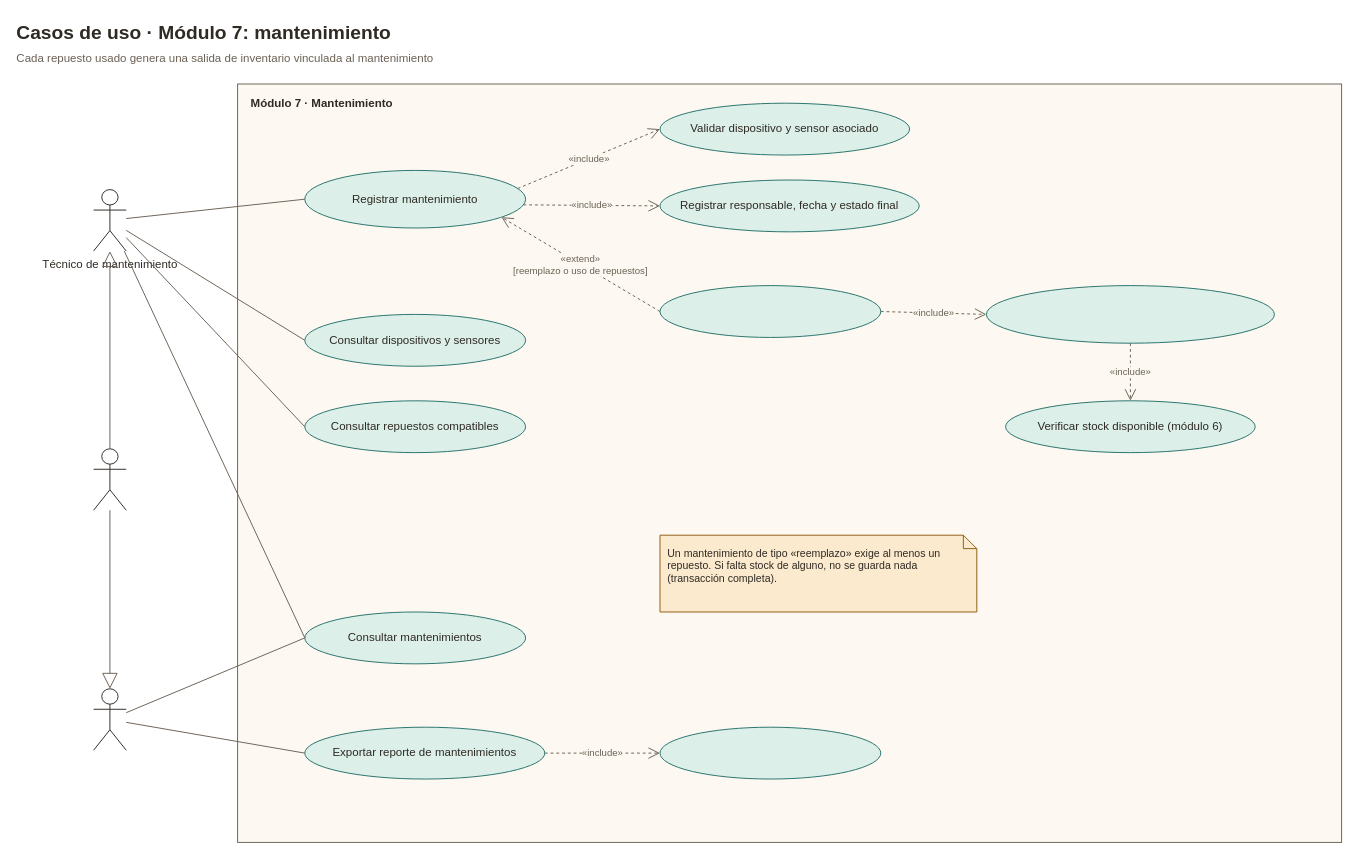
The diagram is 1358 pixels wide and 859 high, and some of its shapes have lost their labels. The centre of each missing label's shape, as x and y in pixels:
Administrador: point 109,479
Descontar del inventario (salida_mantenimiento): point 1129,314
Director/docente: point 109,719
Generar reporte (módulo 5): point 770,752
Registrar repuestos usados: point 770,311
